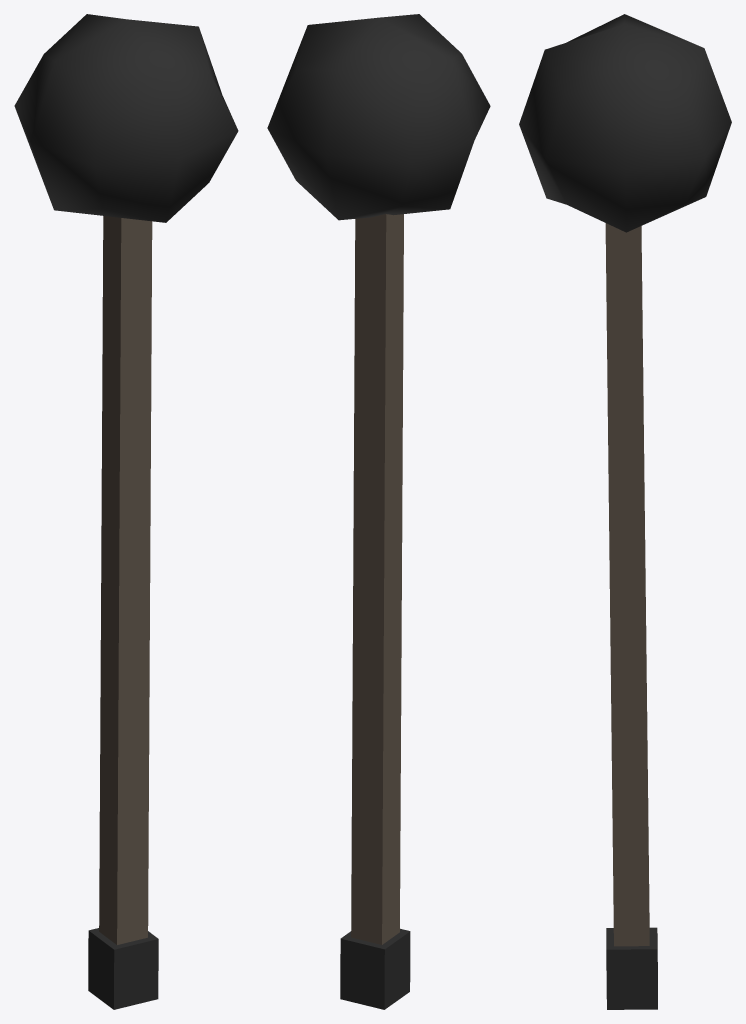
The model's file is Hammer_01.fbx.
3 views of the same model, side by side, from view 1: azimuth 30°, elevation 25°; view 2: azimuth 150°, elevation 25°; view 3: azimuth 270°, elevation 25° (orthographic).
Visible parts, largest first — view 1: Hammer_01; view 2: Hammer_01; view 3: Hammer_01.
Part boxes in pixels (x1=…): Hammer_01: x1=14, y1=14, x2=238, y2=1009; Hammer_01: x1=267, y1=14, x2=490, y2=1009; Hammer_01: x1=519, y1=14, x2=731, y2=1009.
Size of the model in its own units: 4.41 by 21.47 by 4.25.
